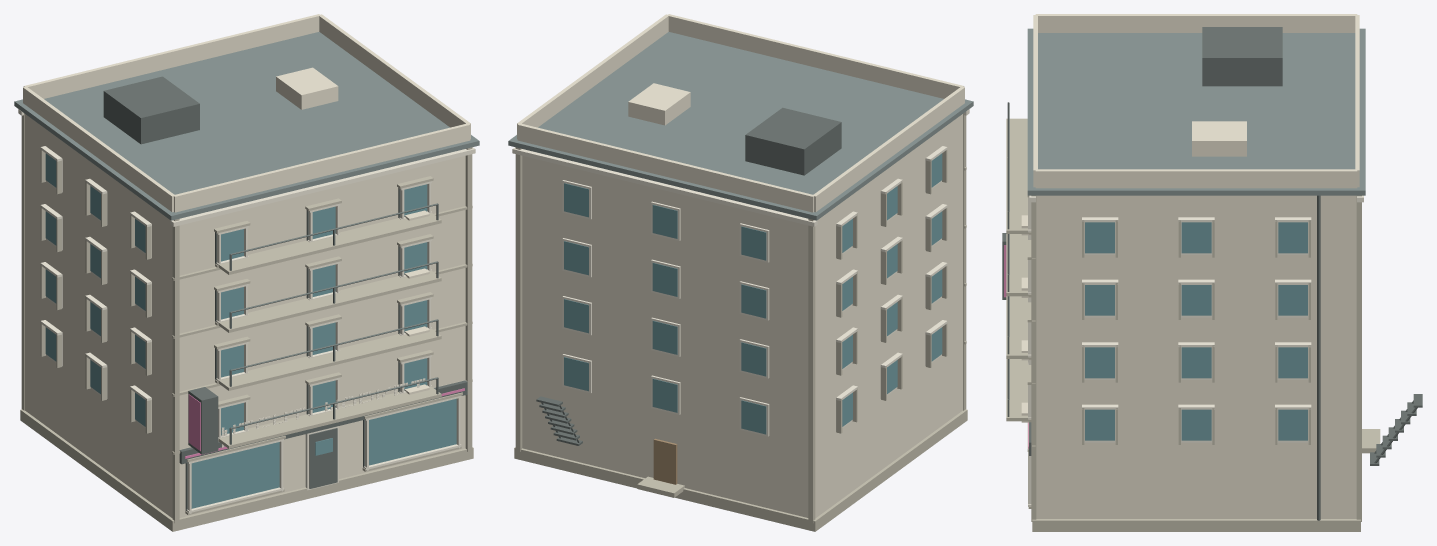
3 renders of one model, left to right at view 1: azimuth 30°, elevation 25°; view 2: azimuth 150°, elevation 25°; view 3: azimuth 270°, elevation 25°, orthographic. The views are drawn at different scales.
Size of the model in its own units: 16.7 by 17.83 by 18.3.
